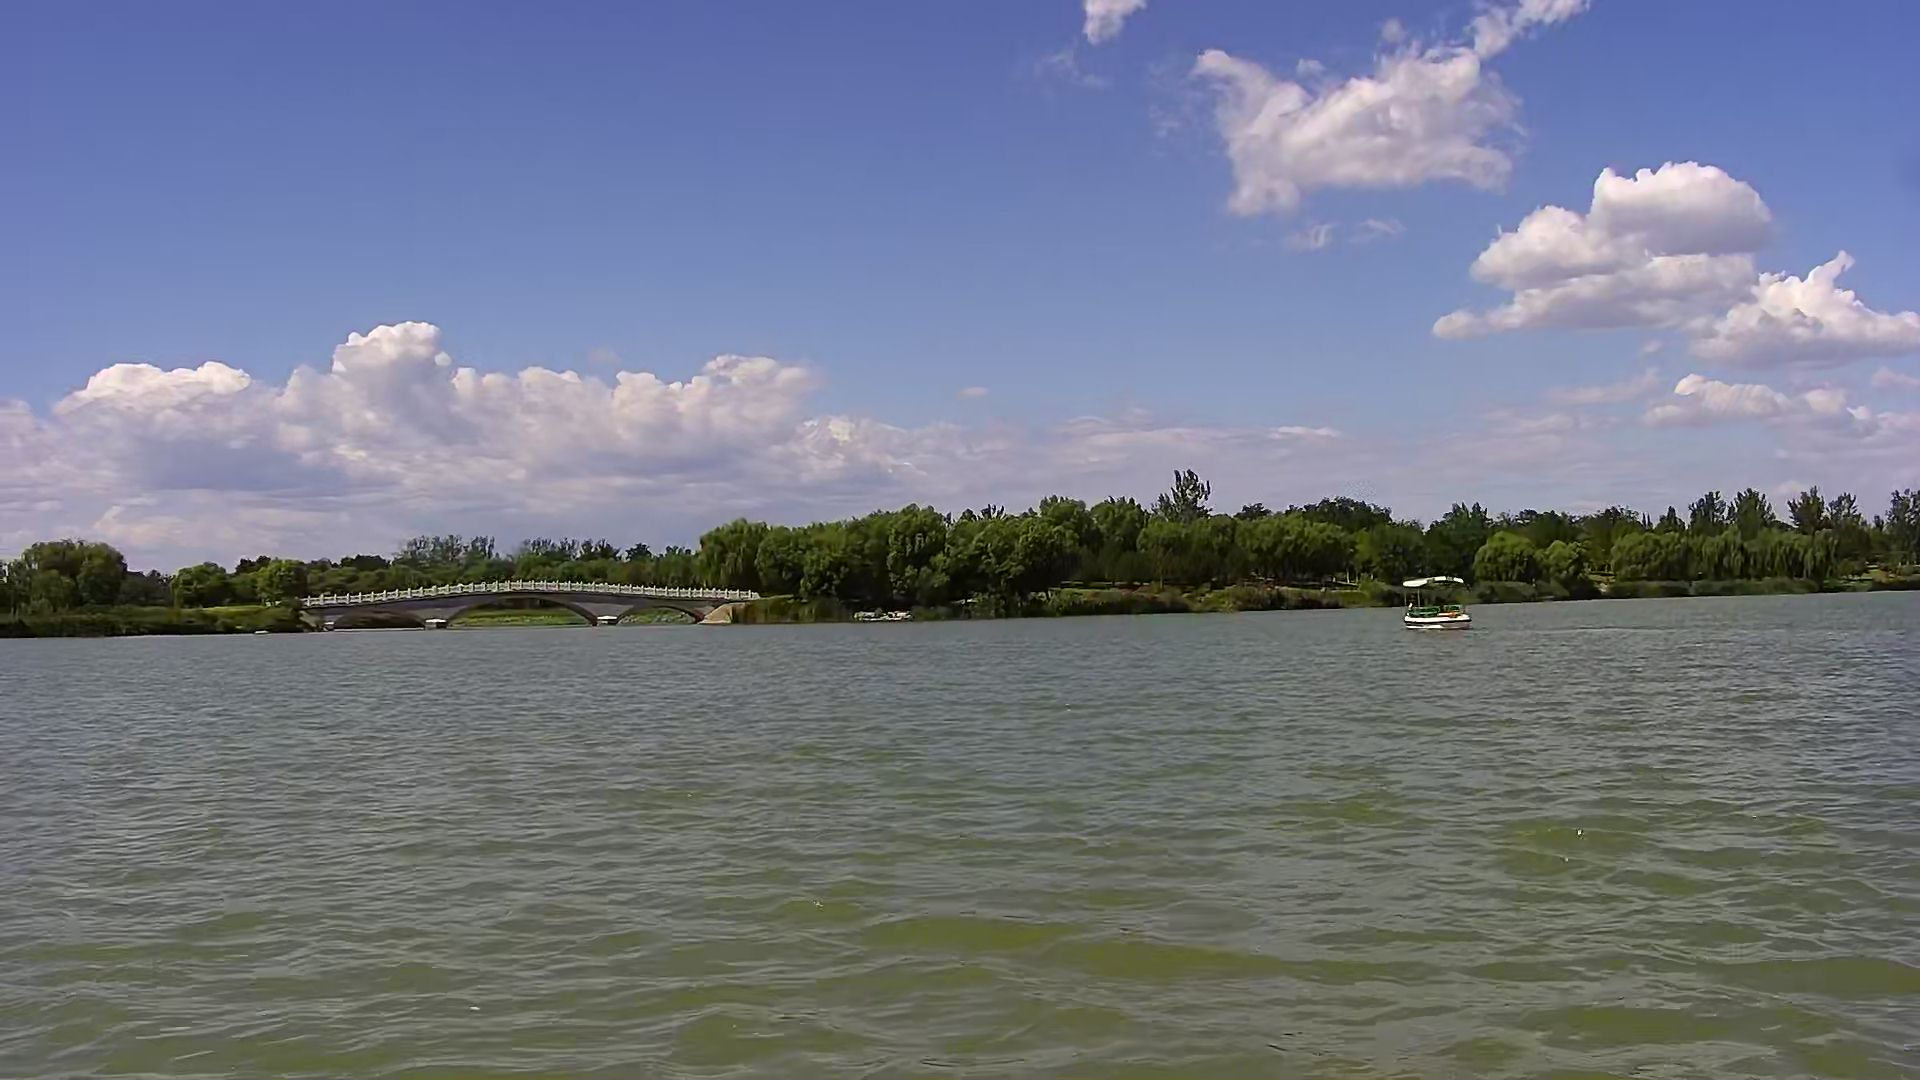boat: (1406, 575, 1470, 632)
bridge: (322, 578, 737, 634)
